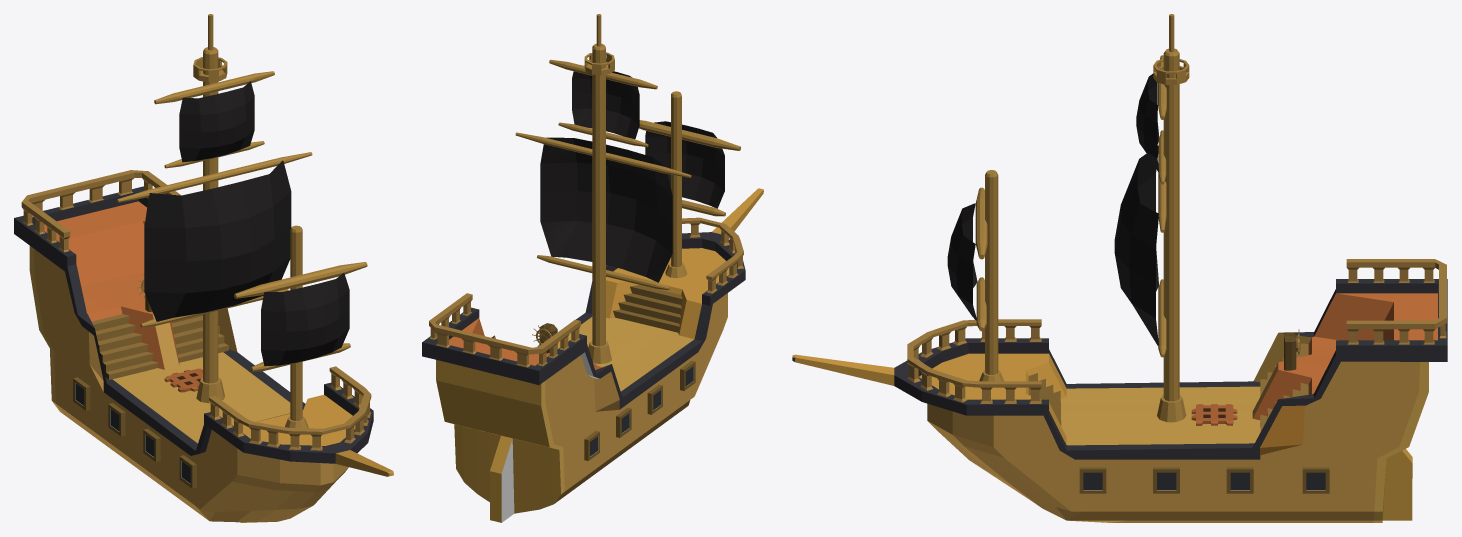
Rendered from 2LucasBozzi_889208.fbx_PirateShip.fbx.
3 renders of one model, left to right at view 1: azimuth 30°, elevation 25°; view 2: azimuth 150°, elevation 25°; view 3: azimuth 270°, elevation 25°, orthographic. The views are drawn at different scales.
Parts seen in each view (by area): view 1: PirateShip; view 2: PirateShip; view 3: PirateShip.
Part boxes in pixels (x1=…): PirateShip: x1=14, y1=14, x2=393, y2=522; PirateShip: x1=422, y1=14, x2=763, y2=522; PirateShip: x1=792, y1=14, x2=1447, y2=522.
Size of the model in its own units: 5482 by 12954 by 15320.
